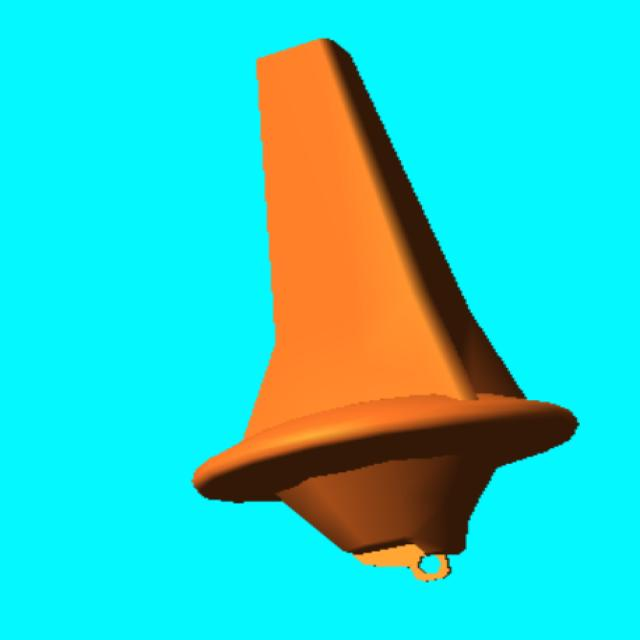OrangeBuoy: (193, 39, 578, 579)
